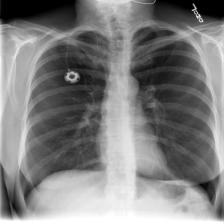normal: (18, 23, 223, 224)
